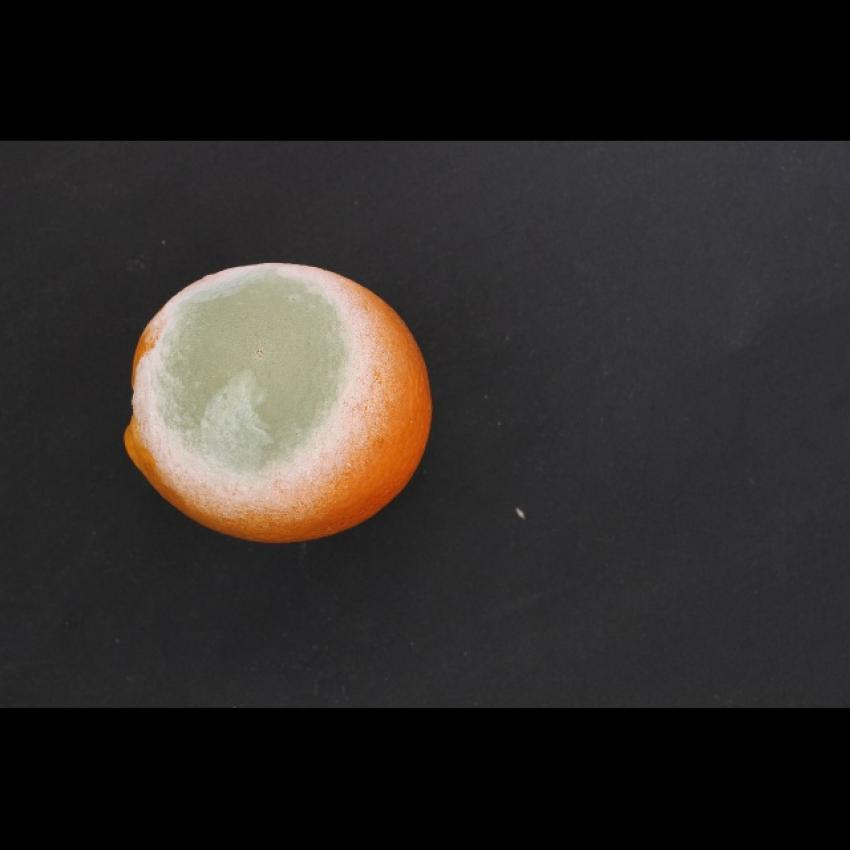Mal estado: (117, 255, 457, 546)
